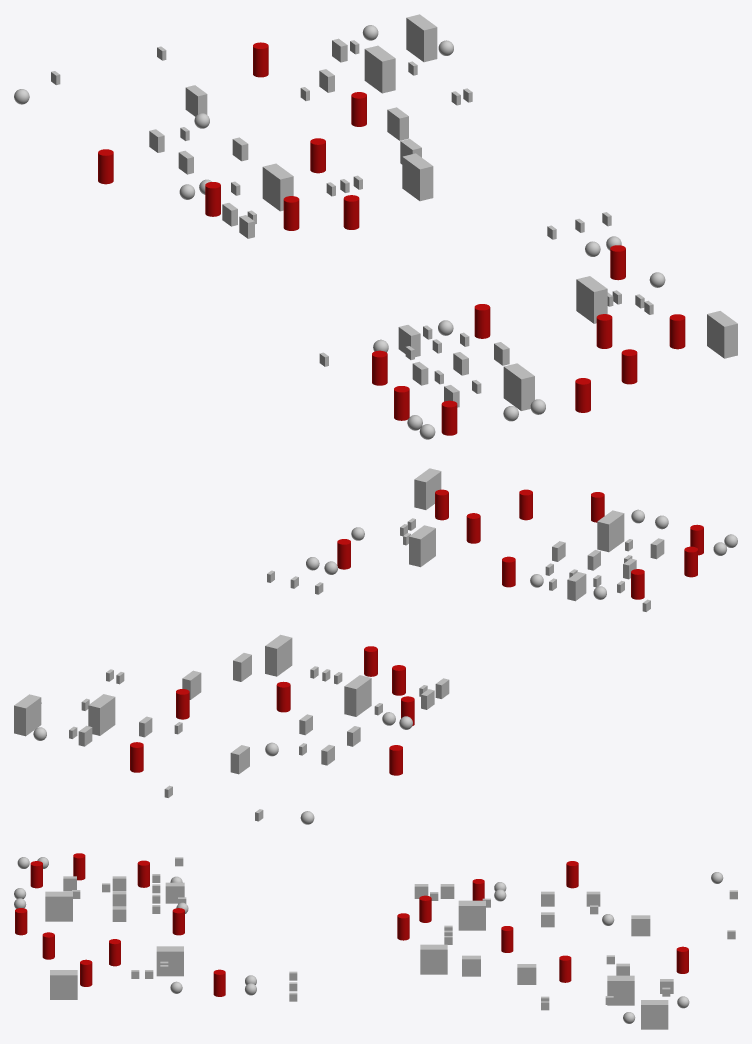
Rendered from GameObjectData.obj.
The picture shows the model from 3 angles, top to bottom: view 1: azimuth 30°, elevation 25°; view 2: azimuth 150°, elevation 25°; view 3: azimuth 270°, elevation 25°; orthographic projection. The views are drawn at different scales.
Visible parts, largest first — view 1: TreeBlight_3, TreeBlight_2, Tree2_2, TreeBlight_1, Tree2_1, Tree1_1, Tree1_2; view 2: Tree1_2, TreeBlight_1, Tree2_2, TreeBlight_2, Tree1_1, TreeBlight_3, Tree2_1; view 3: TreeBlight_2, TreeBlight_1, Tree1_2, Tree2_2, Tree2_1, TreeBlight_3, Tree1_1, Dead_Caleb_1, ThornyVine_2, ThornyVine_1, Dead_Doomguy_1, Spider_3 (+14 smaller).
Boxes of the visible parts, x1=… form: TreeBlight_3: x1=364, y1=45, x2=395, y2=93; TreeBlight_2: x1=402, y1=153, x2=433, y2=201; Tree2_2: x1=406, y1=14, x2=437, y2=62; TreeBlight_1: x1=503, y1=363, x2=534, y2=410; Tree2_1: x1=707, y1=311, x2=737, y2=358; Tree1_1: x1=576, y1=276, x2=607, y2=323; Tree1_2: x1=262, y1=163, x2=293, y2=211; Tree1_2: x1=344, y1=675, x2=371, y2=716; TreeBlight_1: x1=597, y1=510, x2=624, y2=552; Tree2_2: x1=14, y1=694, x2=41, y2=736; TreeBlight_2: x1=265, y1=634, x2=292, y2=676; Tree1_1: x1=409, y1=525, x2=435, y2=567; TreeBlight_3: x1=88, y1=694, x2=115, y2=735; Tree2_1: x1=414, y1=468, x2=441, y2=509; TreeBlight_2: x1=420, y1=944, x2=447, y2=974; TreeBlight_1: x1=45, y1=891, x2=72, y2=921; Tree1_2: x1=458, y1=900, x2=485, y2=930; Tree2_2: x1=641, y1=1000, x2=668, y2=1029; Tree2_1: x1=50, y1=970, x2=77, y2=999; TreeBlight_3: x1=607, y1=975, x2=634, y2=1005; Tree1_1: x1=156, y1=946, x2=183, y2=976; Dead_Caleb_1: x1=631, y1=915, x2=650, y2=936; ThornyVine_2: x1=517, y1=964, x2=536, y2=984; ThornyVine_1: x1=462, y1=955, x2=480, y2=976; Dead_Doomguy_1: x1=165, y1=882, x2=184, y2=903; Spider_3: x1=397, y1=913, x2=409, y2=940.
Bounding box in the file's own units: 31.02 × 2.24 × 59.31.
